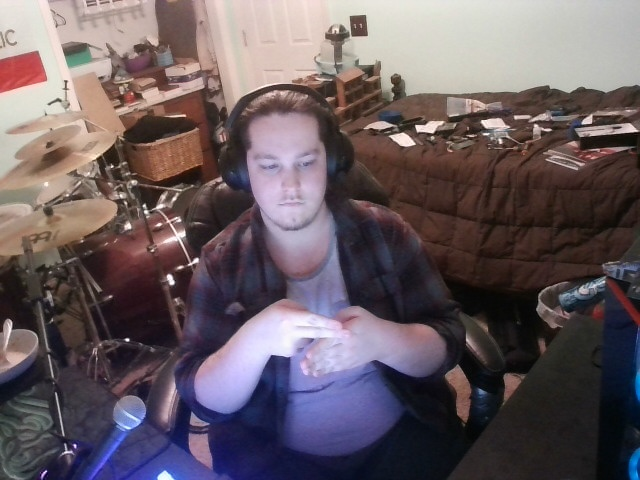name: (241, 282, 385, 398)
